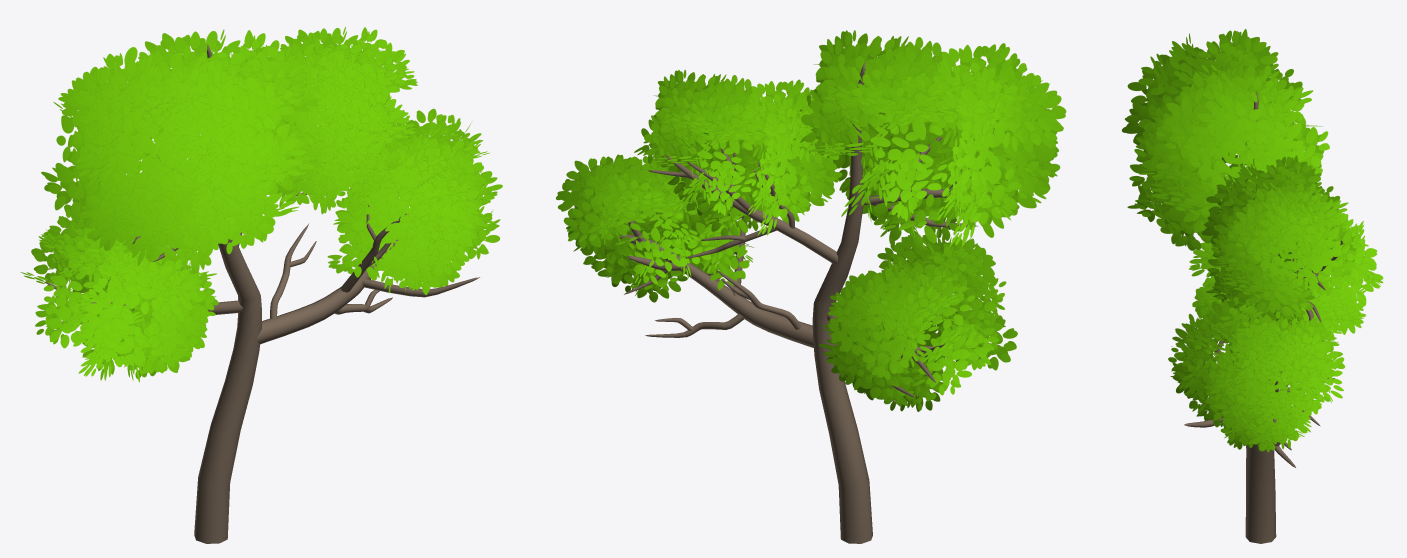
Rendered from normaltree-3.glb.
The picture shows the model from 3 angles, left to right: view 1: azimuth 30°, elevation 25°; view 2: azimuth 150°, elevation 25°; view 3: azimuth 270°, elevation 25°; orthographic projection. The views are drawn at different scales.
Visible parts, largest first — view 1: NormalTree_3; view 2: NormalTree_3; view 3: NormalTree_3.
Boxes of the visible parts, x1,y1,x2,y2 form: NormalTree_3: (20,27,502,543); NormalTree_3: (556,30,1066,543); NormalTree_3: (1122,29,1383,543).
Bounding box in the file's own units: 5.04 × 5.28 × 2.88.
Materials: 2 (1 with a texture image).
